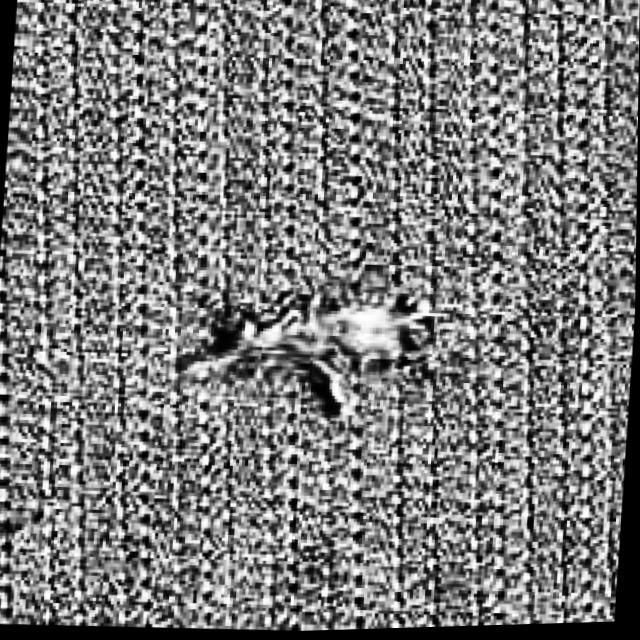Hole: (145, 266, 467, 449)
